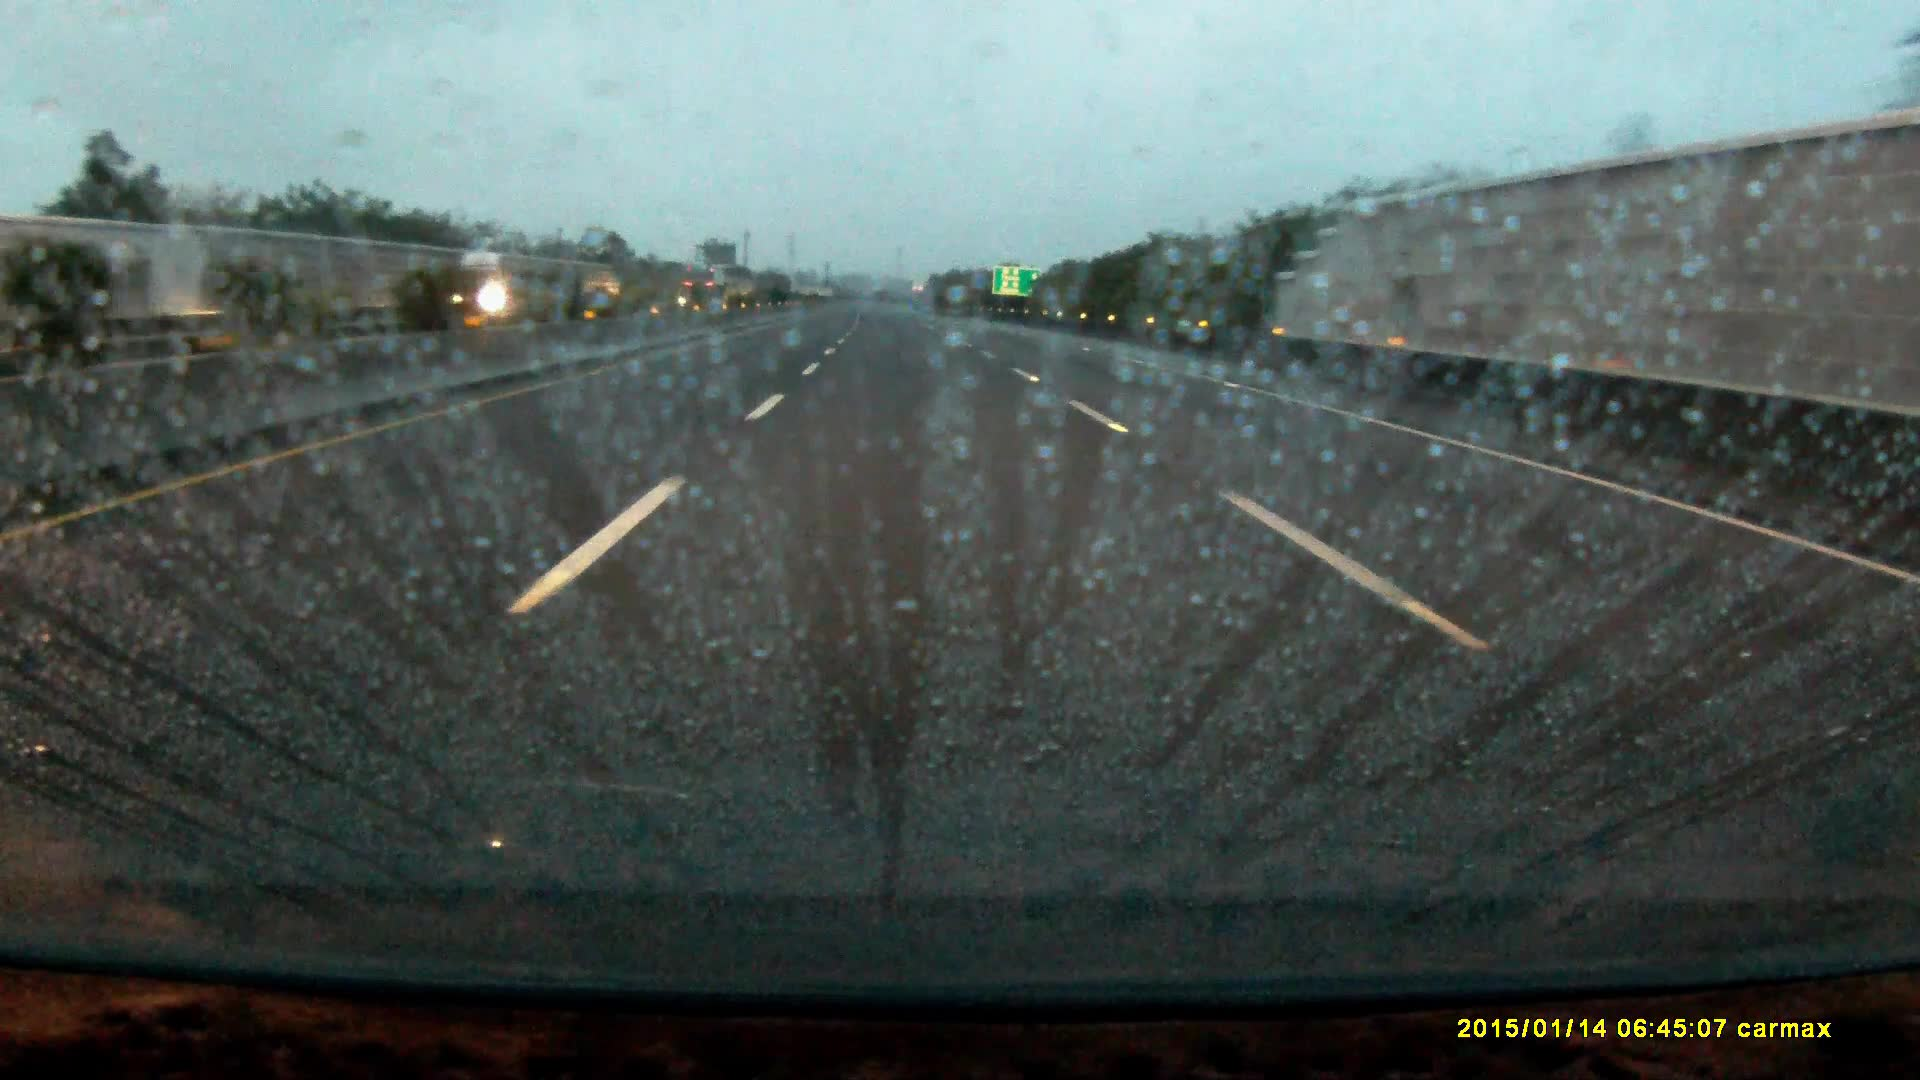vehicle: (454, 251, 549, 327), (684, 274, 731, 313)
